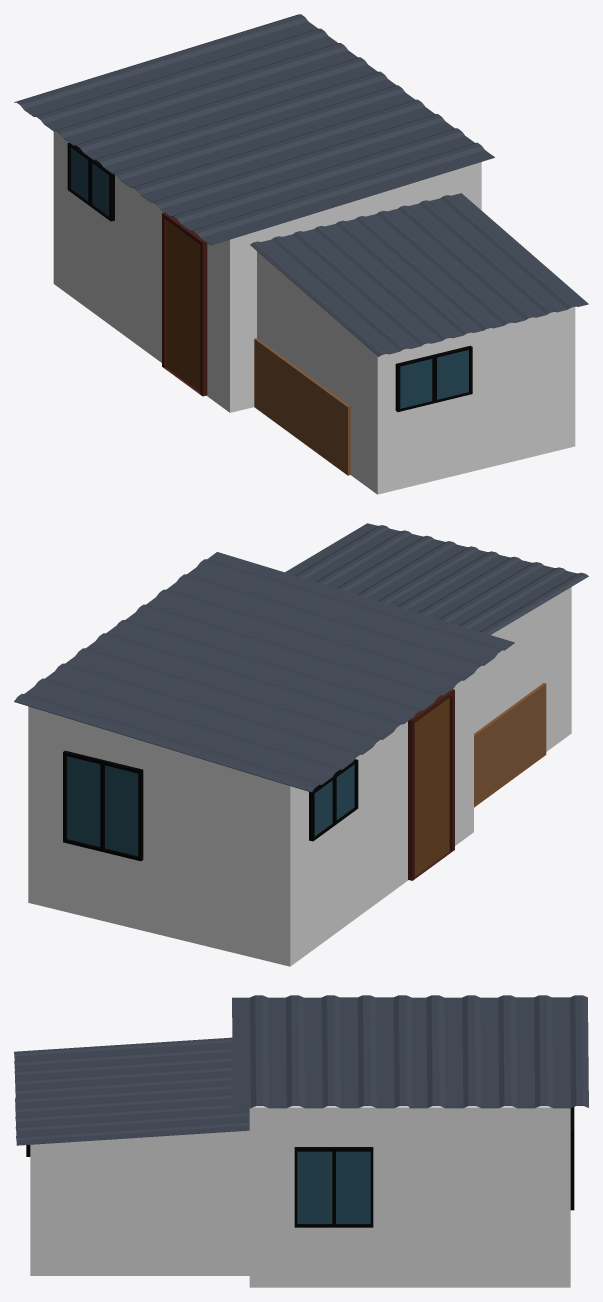
File: Slum 8.fbx
3 views of the same model, one above another, from view 1: azimuth 30°, elevation 25°; view 2: azimuth 150°, elevation 25°; view 3: azimuth 270°, elevation 25° (orthographic). The views are drawn at different scales.
Parts seen in each view (by area): view 1: Roof.006, Roof.007, Cube.015, Cube.022, Cube.023, Cube.014, Door.010, Cube.016, Window 2.016, Window 2.015; view 2: Roof.006, Cube.014, Cube.022, Roof.007, Cube.023, Door.010, Window 1.020, Cube.016, Window 2.015; view 3: Cube.022, Roof.006, Cube.023, Roof.007, Window 1.022, Window 1.020.
Part boxes in pixels (<box>): Roof.006: <box>14,14,494,245</box>; Roof.007: <box>250,193,588,356</box>; Cube.015: <box>377,306,575,494</box>; Cube.022: <box>53,131,229,412</box>; Cube.023: <box>257,251,377,494</box>; Cube.014: <box>230,162,481,412</box>; Door.010: <box>162,212,207,396</box>; Cube.016: <box>254,338,350,475</box>; Window 2.016: <box>395,345,472,411</box>; Window 2.015: <box>67,143,114,221</box>; Roof.006: <box>14,552,514,792</box>; Cube.014: <box>28,706,290,966</box>; Cube.022: <box>290,673,473,966</box>; Roof.007: <box>285,523,588,634</box>; Cube.023: <box>474,587,571,751</box>; Door.010: <box>408,689,454,880</box>; Window 1.020: <box>63,750,143,861</box>; Cube.016: <box>474,683,546,807</box>; Window 2.015: <box>309,759,358,841</box>; Cube.022: <box>249,1107,570,1287</box>; Roof.006: <box>232,995,588,1108</box>; Cube.023: <box>30,1130,249,1275</box>; Roof.007: <box>14,1037,249,1145</box>; Window 1.022: <box>294,1147,373,1227</box>; Window 1.020: <box>570,1107,574,1210</box>.
Size of the model in its own units: 446 by 301 by 852.
